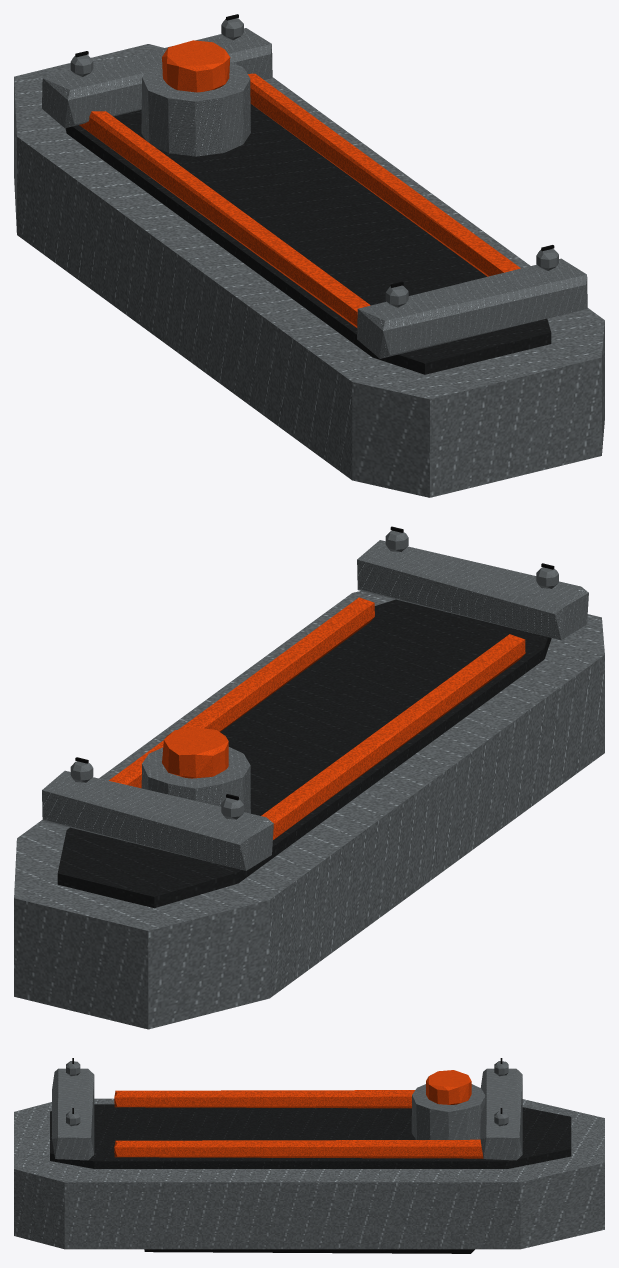
File: impulse-belt-module-ready-lod1.glb
3 renders of one model, top to bottom at view 1: azimuth 30°, elevation 25°; view 2: azimuth 150°, elevation 25°; view 3: azimuth 270°, elevation 25°, orthographic. The views are drawn at different scales.
Parts seen in each view (by area): view 1: Belt module steel armor, Recessed charcoal module plate, Steel module cross brace, Orange status rail, Orange status rail.001, Top module socket, Steel module cross brace.001, Socket orange insert; view 2: Belt module steel armor, Recessed charcoal module plate, Steel module cross brace, Steel module cross brace.001, Orange status rail, Orange status rail.001, Top module socket, Socket orange insert; view 3: Belt module steel armor, Recessed charcoal module plate, Orange status rail.001, Orange status rail, Steel module cross brace, Steel module cross brace.001, Top module socket, Belt retaining clip, Socket orange insert.
Boxes of the visible parts, x1,y1,x2,y2 form: Belt module steel armor: (14, 44, 604, 497); Recessed charcoal module plate: (65, 104, 551, 374); Steel module cross brace: (357, 258, 587, 358); Orange status rail: (79, 111, 370, 327); Orange status rail.001: (248, 73, 520, 276); Top module socket: (141, 61, 250, 156); Steel module cross brace.001: (42, 28, 272, 127); Socket orange insert: (162, 40, 230, 92); Belt module steel armor: (14, 591, 604, 1029); Recessed charcoal module plate: (57, 599, 551, 908); Steel module cross brace: (357, 540, 588, 640); Steel module cross brace.001: (42, 770, 273, 870); Orange status rail: (261, 634, 525, 839); Orange status rail.001: (109, 597, 374, 788); Top module socket: (141, 747, 250, 813); Socket orange insert: (162, 727, 228, 778); Belt module steel armor: (14, 1098, 604, 1249); Recessed charcoal module plate: (50, 1104, 571, 1168); Orange status rail.001: (114, 1139, 483, 1158); Orange status rail: (114, 1090, 414, 1108); Steel module cross brace: (52, 1068, 94, 1160); Steel module cross brace.001: (480, 1068, 522, 1160); Top module socket: (411, 1084, 485, 1139); Belt retaining clip: (144, 1249, 474, 1253); Socket orange insert: (426, 1070, 471, 1104).
Size of the model in its own units: 0.094 by 0.0861 by 0.28.
4 materials, 4 textured.
